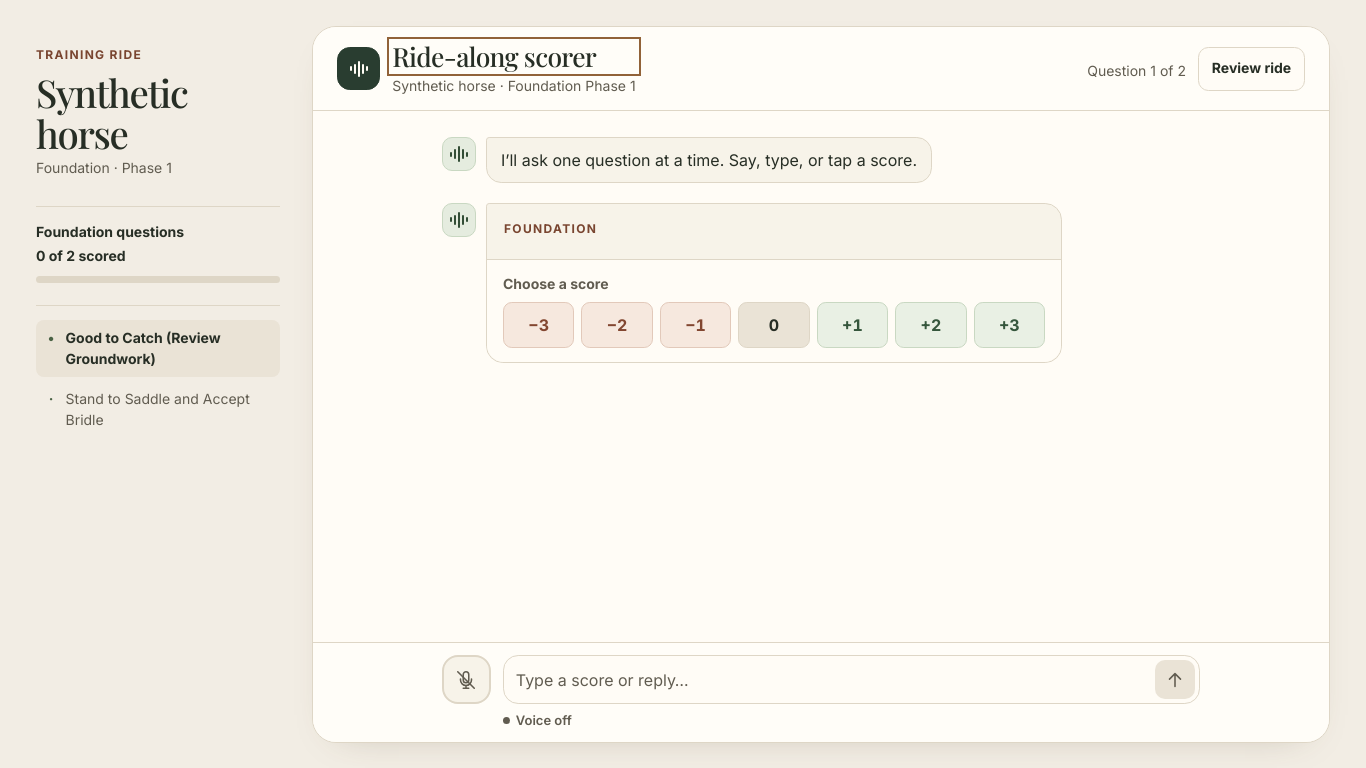
Test: retries an unacknowledged save with its original score and turn
Later steps or results of the test are not shown.
Type "-2" into the field named "Type a message" at (830, 680), box x1=508 y1=663 x2=1151 y2=697
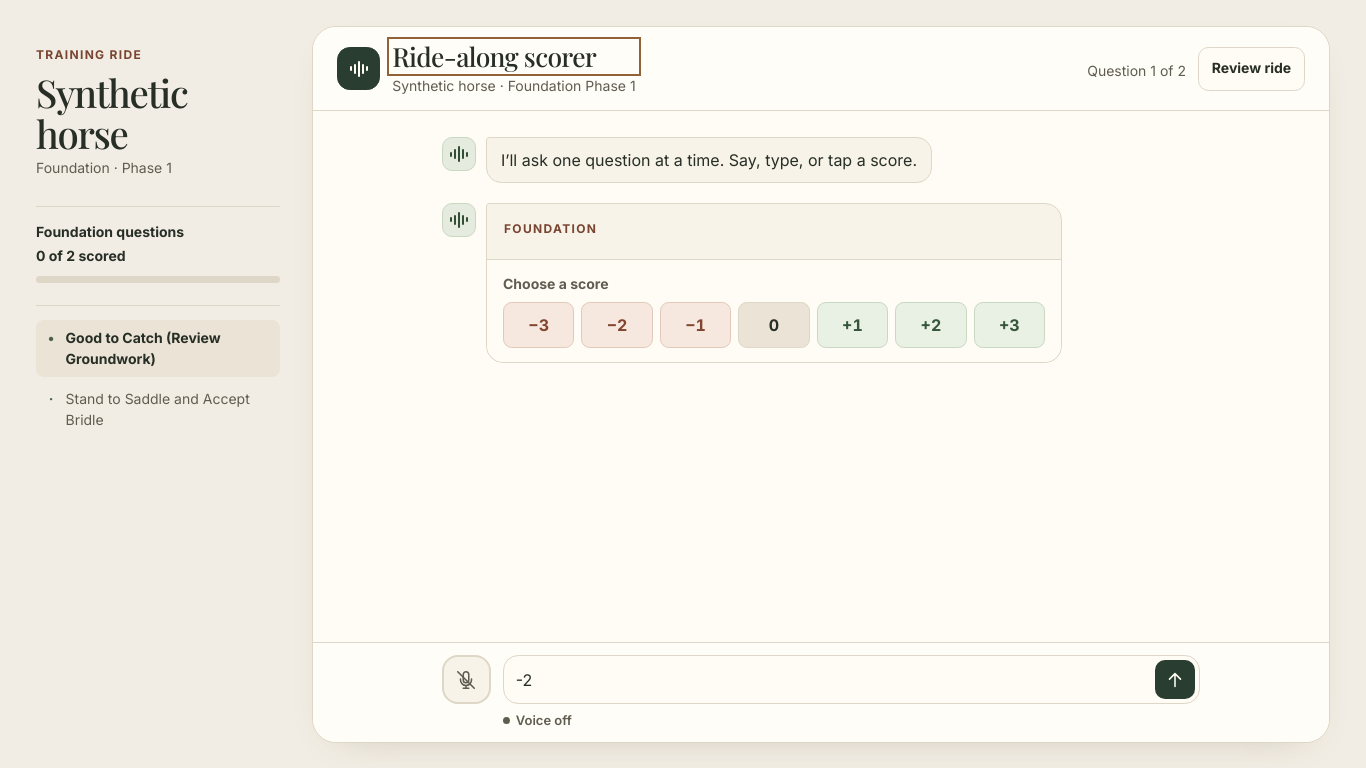
Click the button named "Send message" at (1175, 680), box x1=1155 y1=660 x2=1195 y2=699
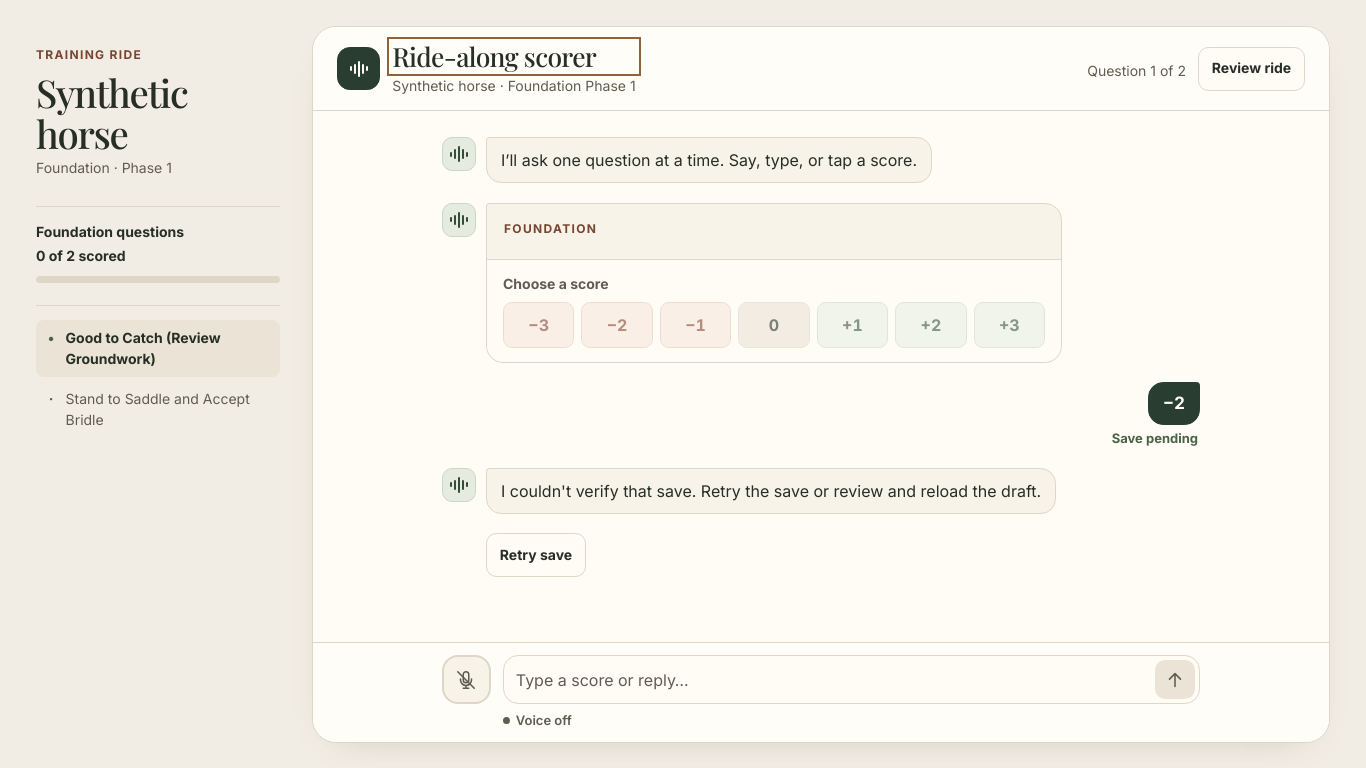
expect the text "Question 1 of 2" is shown: met, box x1=1087 y1=60 x2=1186 y2=81
expect the text "Save pending" is shown: met, box x1=1112 y1=429 x2=1198 y2=449
expect the button named "Record plus three" is disabled: met, box x1=974 y1=302 x2=1045 y2=348
